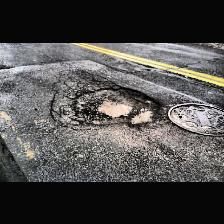pothole: (70, 85, 160, 124)
